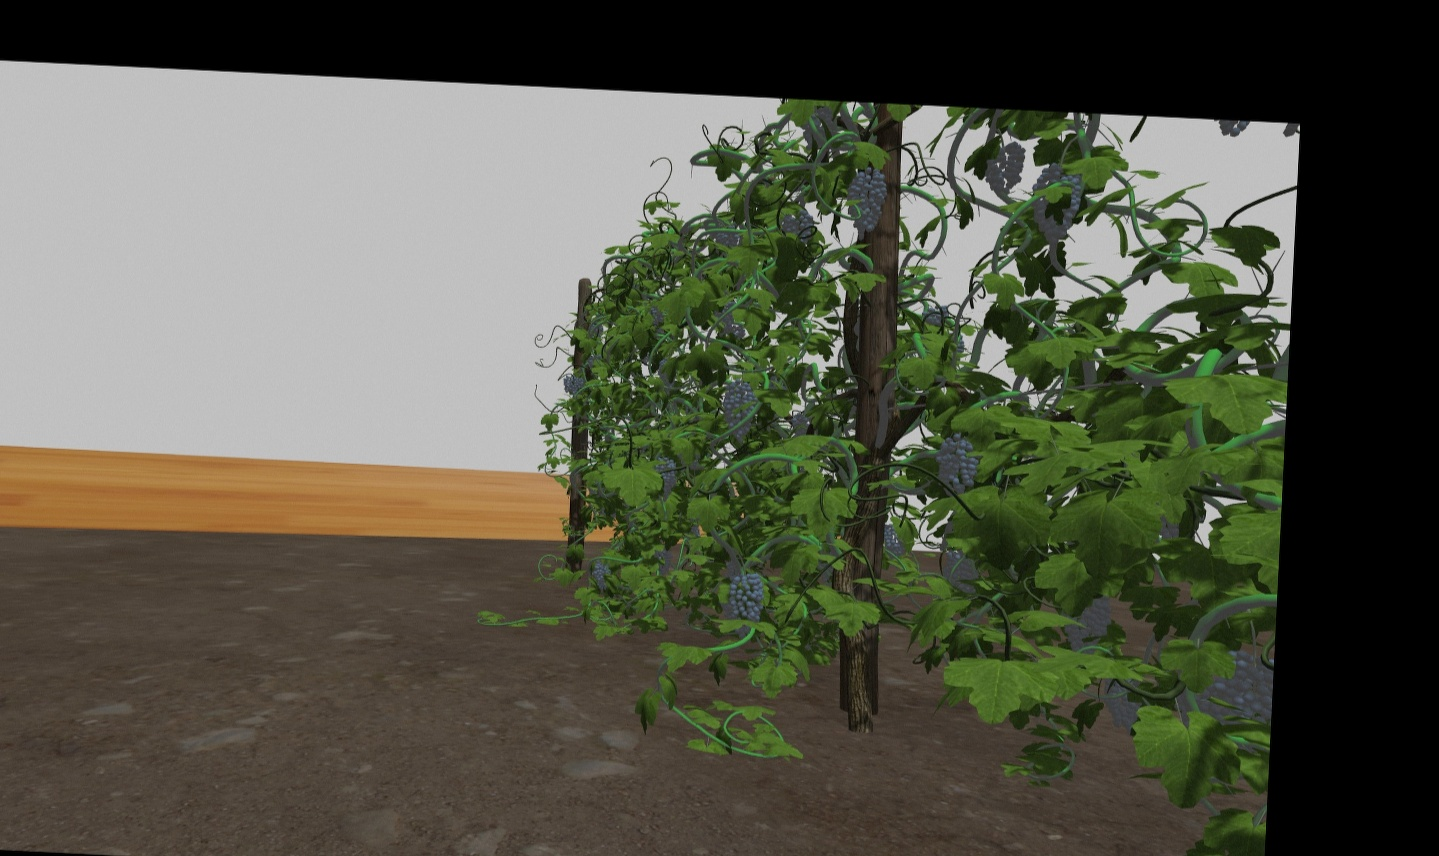grape: (1197, 642, 1269, 725), (1029, 162, 1080, 245), (935, 433, 979, 493), (845, 167, 886, 232), (1104, 668, 1144, 729), (721, 378, 757, 442), (985, 139, 1024, 195), (726, 574, 763, 623), (1077, 598, 1112, 645), (940, 549, 977, 591), (779, 206, 814, 243), (654, 454, 678, 500), (880, 524, 909, 557), (591, 559, 611, 591), (652, 546, 672, 575), (570, 377, 583, 393), (561, 374, 571, 393)
